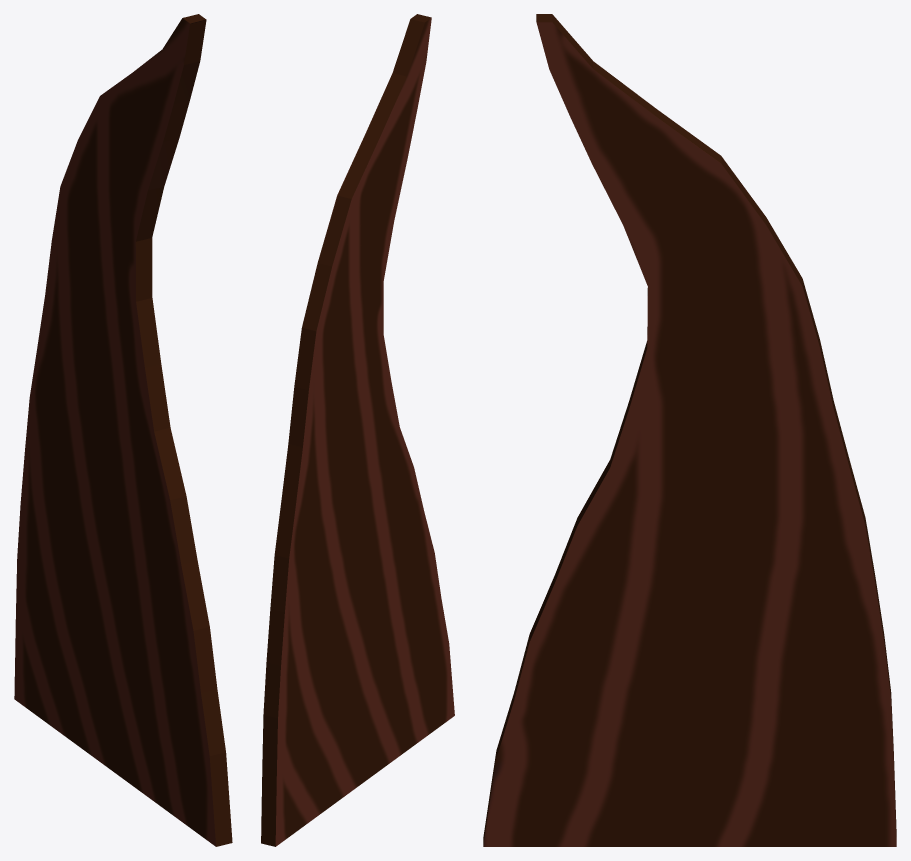
File: Spike.fbx
The picture shows the model from 3 angles, left to right: view 1: azimuth 30°, elevation 25°; view 2: azimuth 150°, elevation 25°; view 3: azimuth 270°, elevation 25°; orthographic projection. The views are drawn at different scales.
Parts seen in each view (by area): view 1: DecorationSpike; view 2: DecorationSpike; view 3: DecorationSpike.
Part boxes in pixels (x1,y1,x2,y2): DecorationSpike: (14,14,232,846); DecorationSpike: (261,14,454,846); DecorationSpike: (483,14,896,846).
Bounding box in the file's own units: 850 × 39.96 × 1871.
